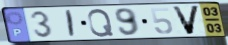3: (29, 9, 55, 39)
5: (149, 6, 175, 35)
9: (113, 7, 143, 38)
I: (65, 9, 77, 39)
Q: (86, 8, 116, 38)
V: (170, 5, 202, 36)
